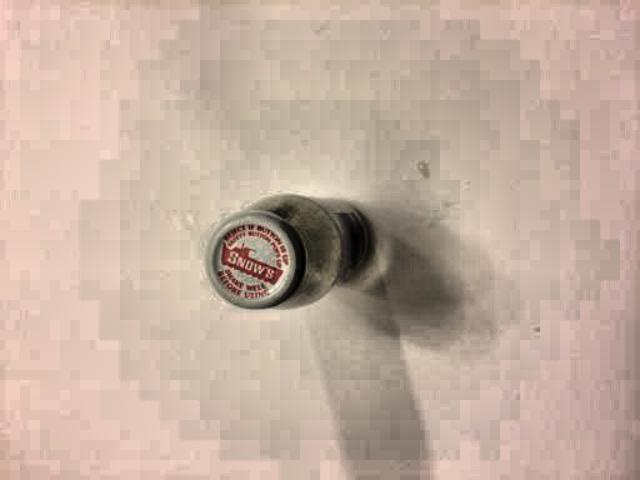Almennt: (217, 182, 372, 318)
